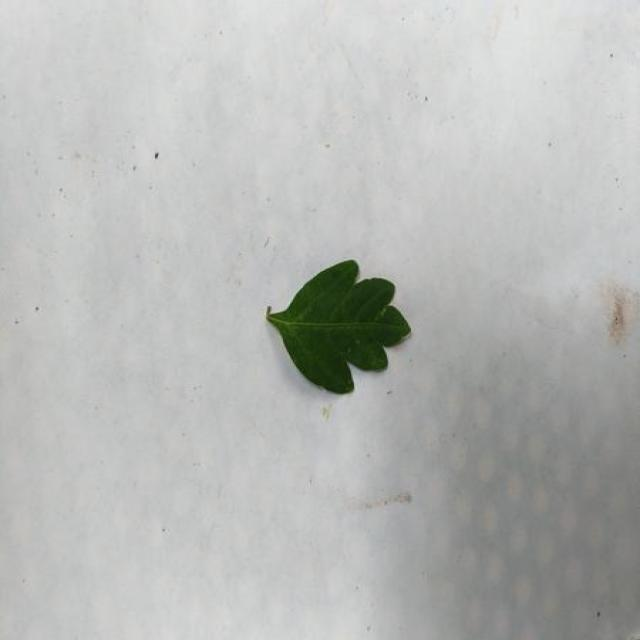balloon_Vine: (267, 260, 410, 393)
